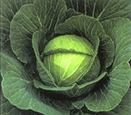cabbage: (31, 17, 106, 93)
